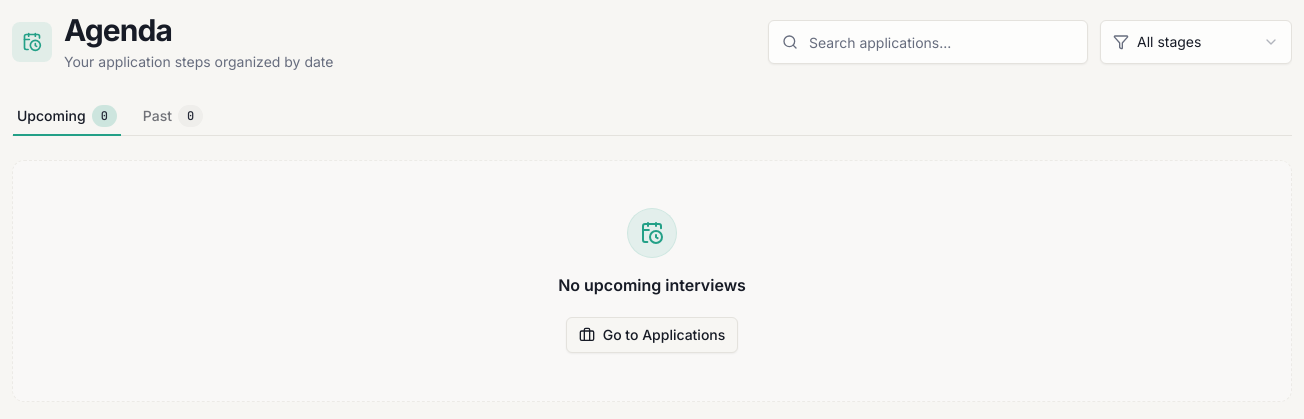
it: AgendaPage › shows "No past interviews in the last 30 days" on the Past tab when empty
The image size is (1304, 419).
Click the tab "Past 0".
click(173, 116)  # box [138,96,208,135]
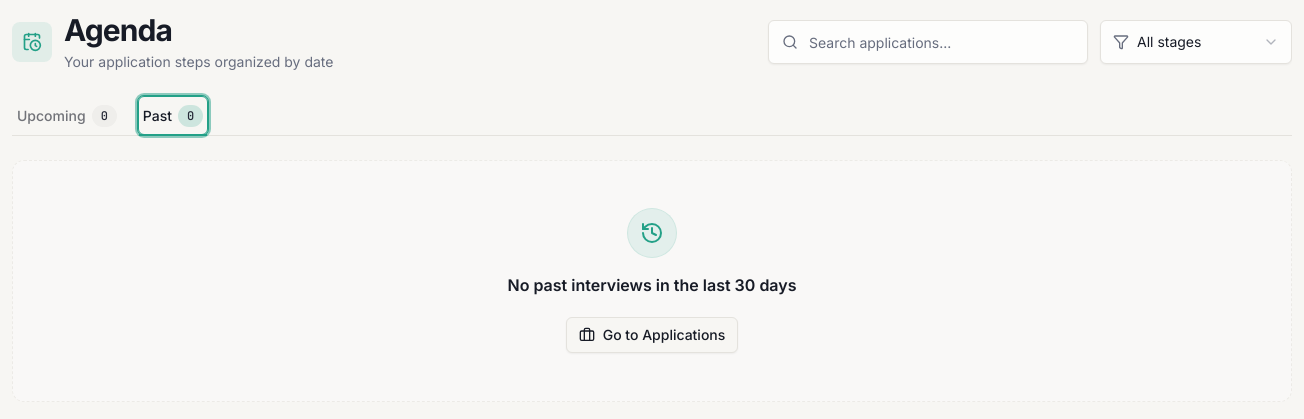
Expected: the heading "No past interviews in the last 30 days" is shown, [508,273,796,297]
